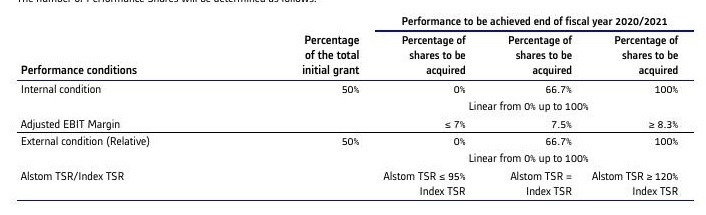table: (0, 0, 706, 215)
